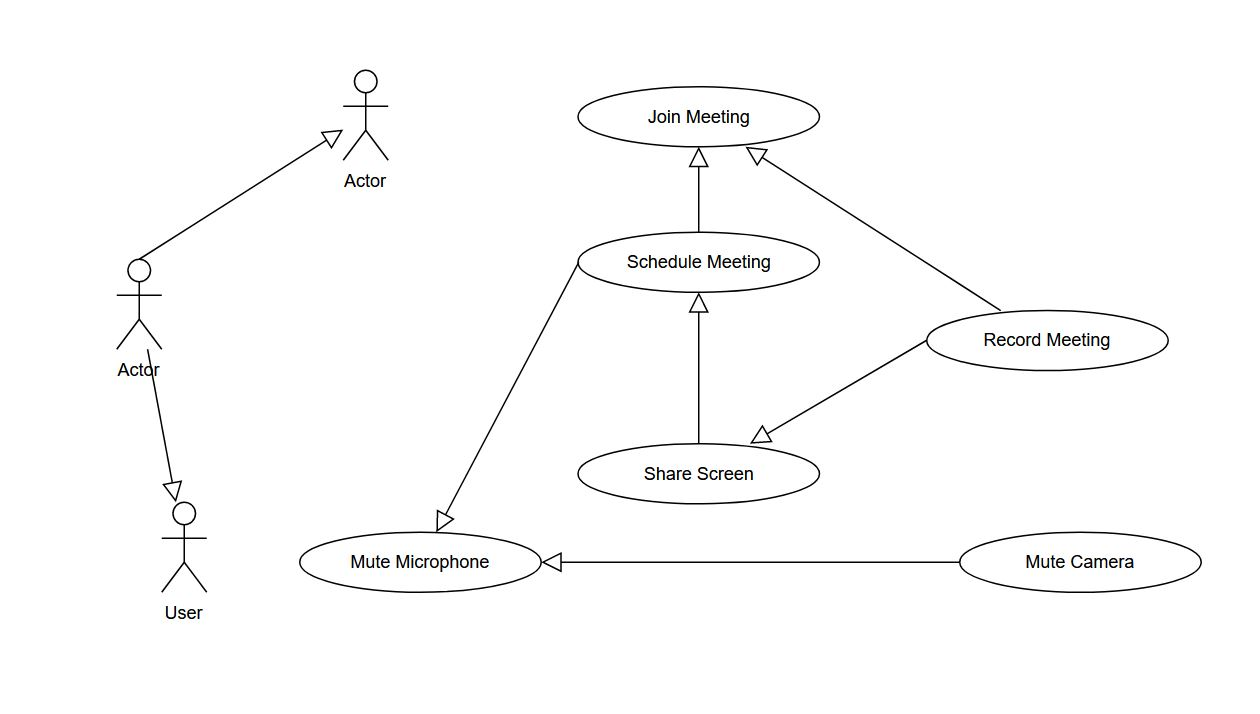actor: (158, 501, 214, 594), (343, 68, 393, 163), (114, 259, 164, 351)
generalization: (745, 145, 997, 310), (435, 265, 576, 532), (136, 128, 342, 260), (751, 341, 925, 444), (543, 553, 960, 573), (143, 349, 181, 502), (688, 294, 707, 443), (689, 147, 705, 229)
text: (968, 325, 1114, 354), (621, 250, 777, 276), (1020, 546, 1140, 576), (348, 550, 493, 574), (639, 461, 758, 485), (648, 104, 757, 130), (161, 601, 212, 624), (115, 359, 166, 379), (342, 174, 390, 191)
use_case: (298, 530, 543, 595), (577, 232, 820, 295), (576, 86, 822, 147), (958, 531, 1203, 592), (926, 309, 1170, 370), (577, 444, 820, 505)
